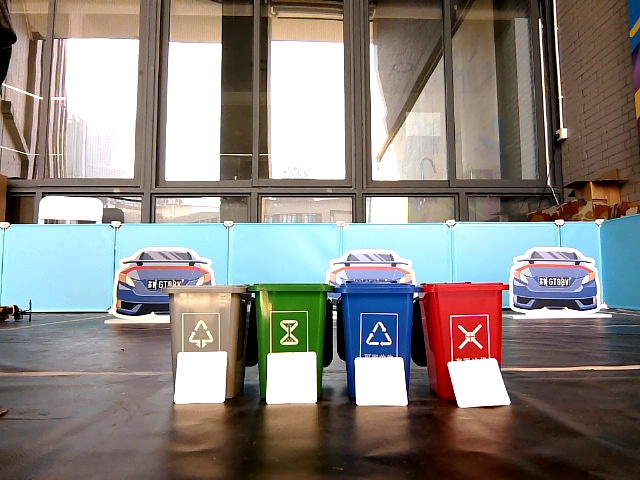blue_open: (344, 286, 410, 354)
green_open: (258, 283, 322, 350)
grey_open: (171, 286, 241, 352)
red_open: (427, 282, 497, 358)
